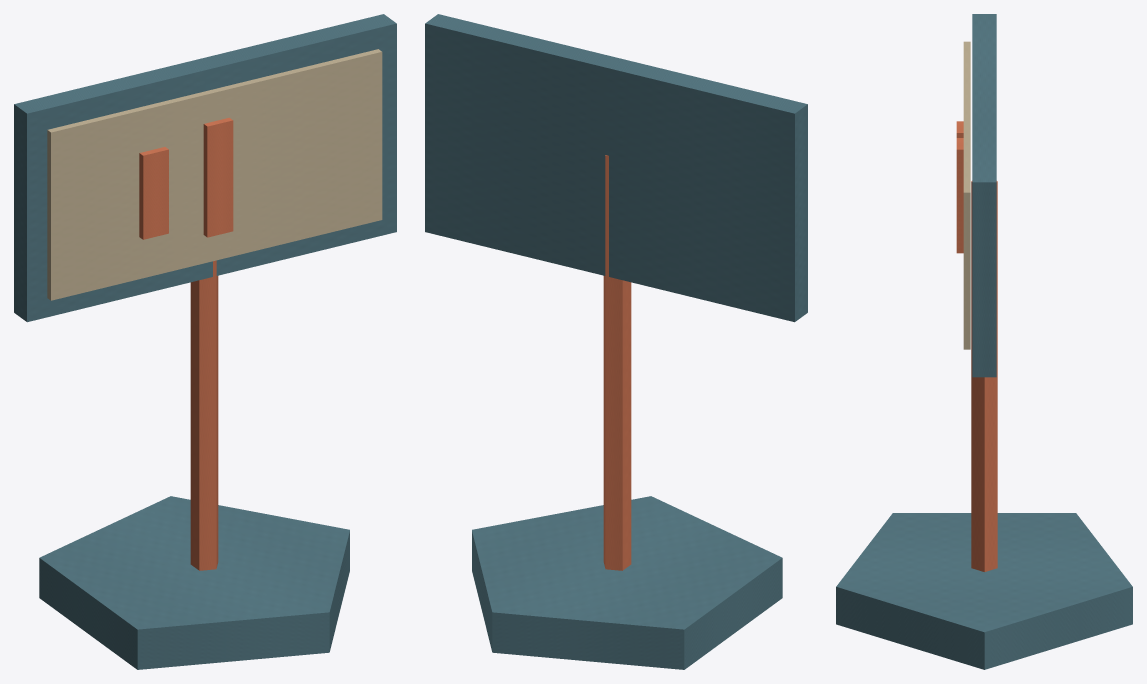
Rendered from atlas100-s043-a11.lod1.glb.
The picture shows the model from 3 angles, left to right: view 1: azimuth 30°, elevation 25°; view 2: azimuth 150°, elevation 25°; view 3: azimuth 270°, elevation 25°; orthographic projection. The views are drawn at different scales.
Parts seen in each view (by area): view 1: atlas100-s043-a11:part-003, atlas100-s043-a11:part-000, atlas100-s043-a11:part-002, atlas100-s043-a11:part-001, atlas100-s043-a11:part-005, atlas100-s043-a11:part-004; view 2: atlas100-s043-a11:part-002, atlas100-s043-a11:part-000, atlas100-s043-a11:part-001; view 3: atlas100-s043-a11:part-000, atlas100-s043-a11:part-002, atlas100-s043-a11:part-001, atlas100-s043-a11:part-003, atlas100-s043-a11:part-005.
Boxes of the visible parts, x1=… form: atlas100-s043-a11:part-003: x1=47, y1=49, x2=382, y2=300; atlas100-s043-a11:part-000: x1=39, y1=496, x2=349, y2=669; atlas100-s043-a11:part-002: x1=14, y1=14, x2=396, y2=322; atlas100-s043-a11:part-001: x1=190, y1=260, x2=218, y2=570; atlas100-s043-a11:part-005: x1=203, y1=117, x2=233, y2=237; atlas100-s043-a11:part-004: x1=139, y1=147, x2=168, y2=239; atlas100-s043-a11:part-002: x1=425, y1=14, x2=807, y2=322; atlas100-s043-a11:part-000: x1=472, y1=496, x2=782, y2=669; atlas100-s043-a11:part-001: x1=603, y1=155, x2=631, y2=570; atlas100-s043-a11:part-000: x1=836, y1=513, x2=1132, y2=669; atlas100-s043-a11:part-002: x1=972, y1=14, x2=996, y2=377; atlas100-s043-a11:part-001: x1=971, y1=181, x2=997, y2=571; atlas100-s043-a11:part-003: x1=963, y1=41, x2=970, y2=349; atlas100-s043-a11:part-005: x1=956, y1=138, x2=963, y2=253.
Size of the model in its own units: 1.15 by 1.61 by 0.856.
Materials: 3 (3 with a texture image).
